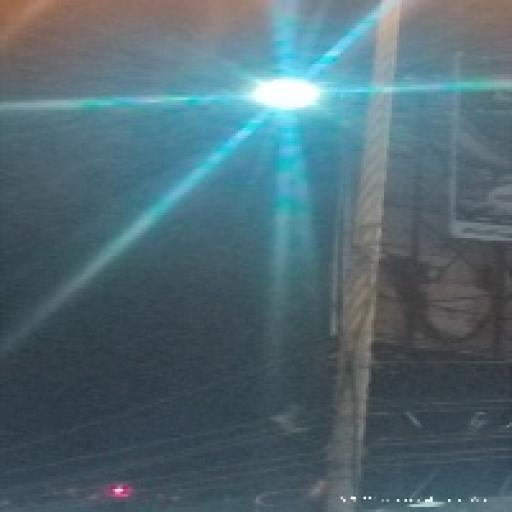Working: (238, 65, 328, 126)
